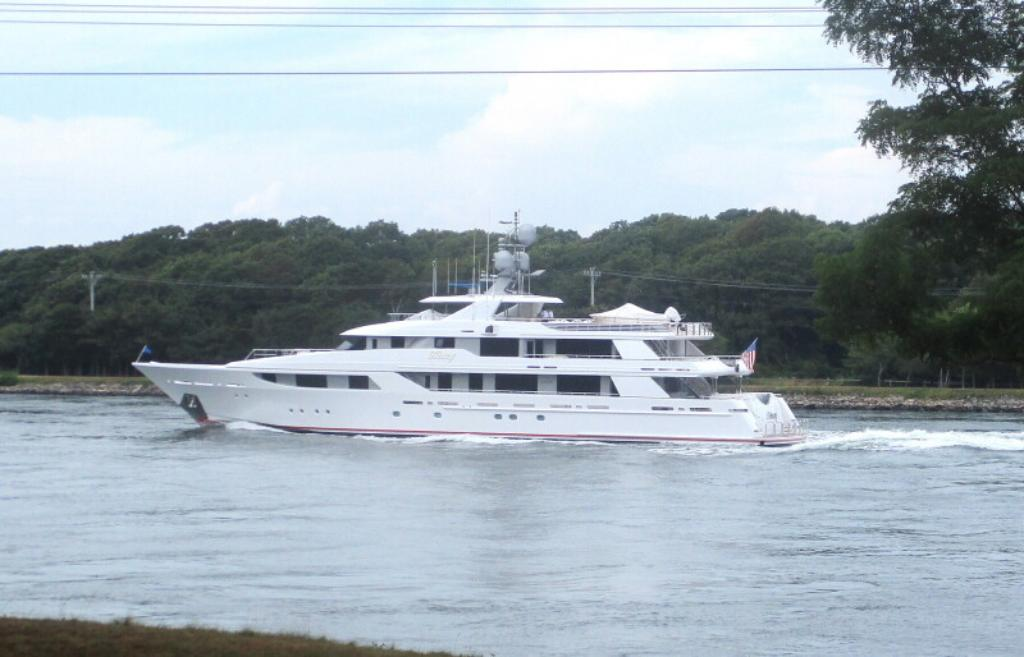PassengerShip: (131, 209, 813, 449)
